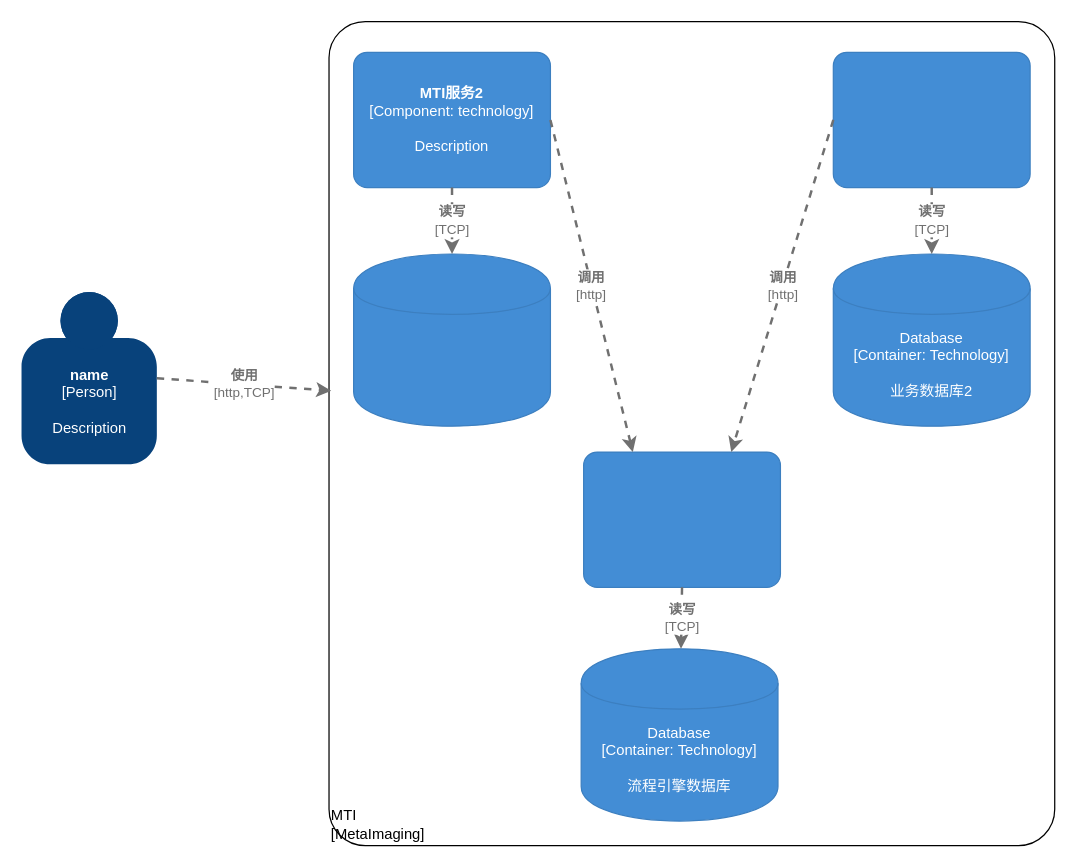
This 1076x867 diagram has some shape labels left out. The centre of each missing label's shape, as x and y in pixels:
"Database [Container: Technology] 业务数据库1" belongs at [451,339].
"MTI服务1 [Component: technology] Description" belongs at [931,119].
"Workflow-Engine [Component: technology] 流程引擎" belongs at [681,519].
